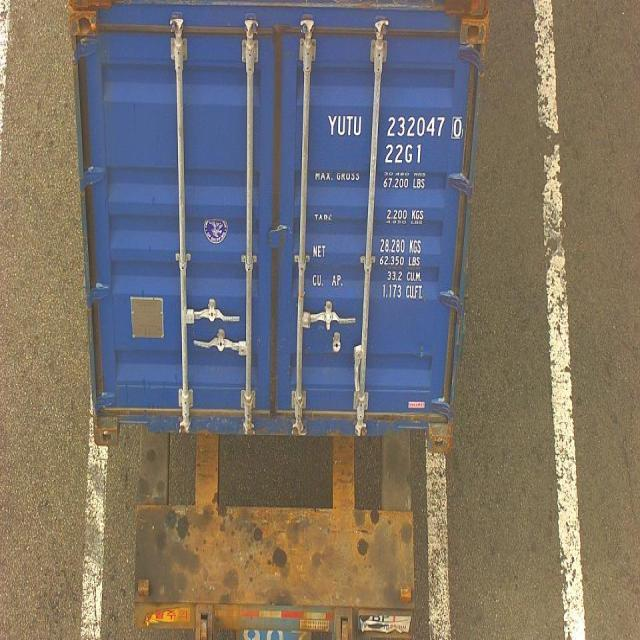ISO: (384, 142, 420, 164)
container_number: (328, 111, 462, 140)
